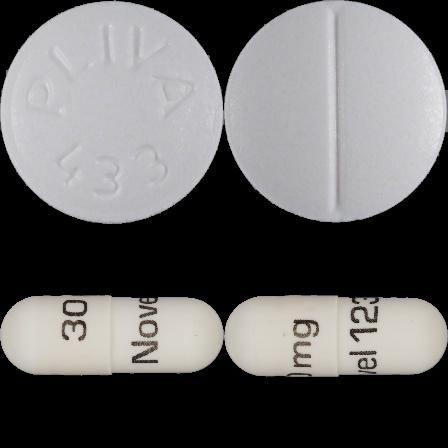68788-9861: (0, 0, 224, 224)
